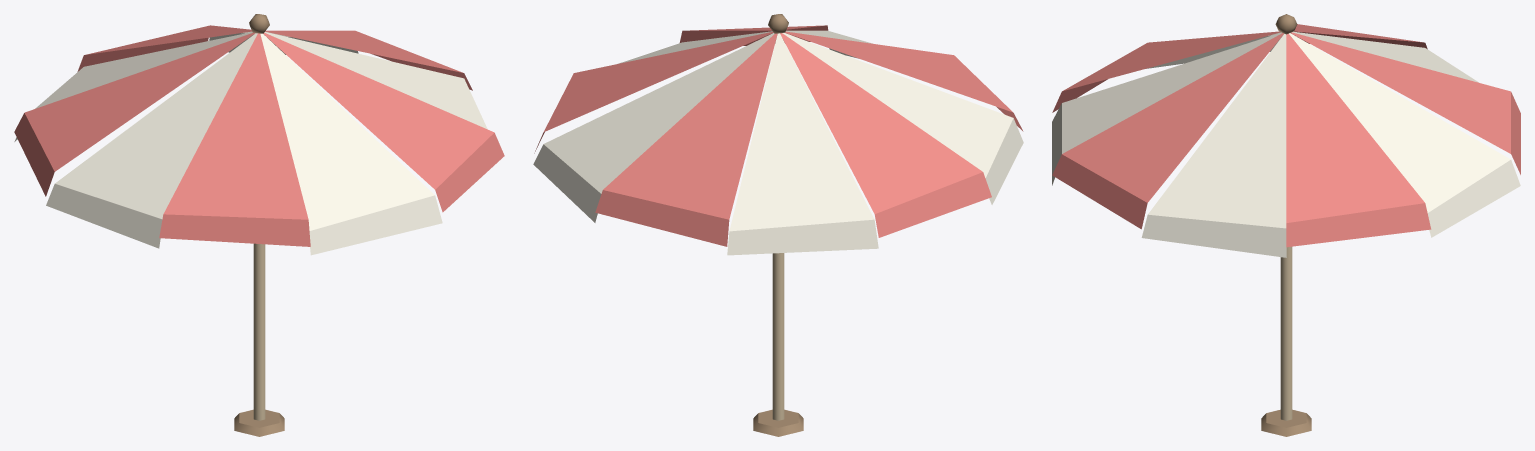
File: umbrella.glb
3 views of the same model, side by side, from view 1: azimuth 30°, elevation 25°; view 2: azimuth 150°, elevation 25°; view 3: azimuth 270°, elevation 25° (orthographic).
Visible parts, largest first — view 1: umbrella; view 2: umbrella; view 3: umbrella.
Boxes of the visible parts, x1=… form: umbrella: x1=14, y1=14, x2=504, y2=436; umbrella: x1=533, y1=14, x2=1023, y2=436; umbrella: x1=1052, y1=14, x2=1520, y2=436.
Size of the model in its own units: 3.38 by 3.11 by 3.21.
